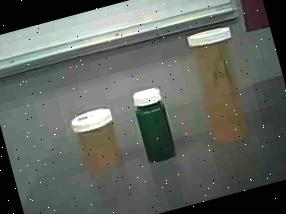Bottle A: (175, 18, 267, 158)
Bottle B: (66, 101, 131, 177)
Bottle C: (123, 79, 191, 169)
